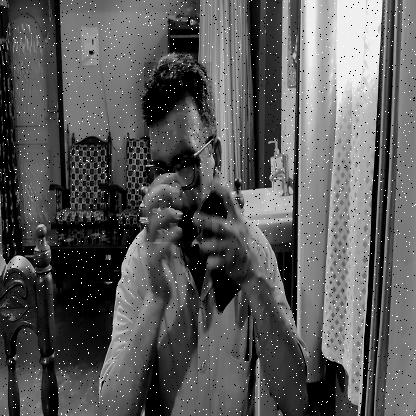Distracted: (144, 62, 212, 242)
